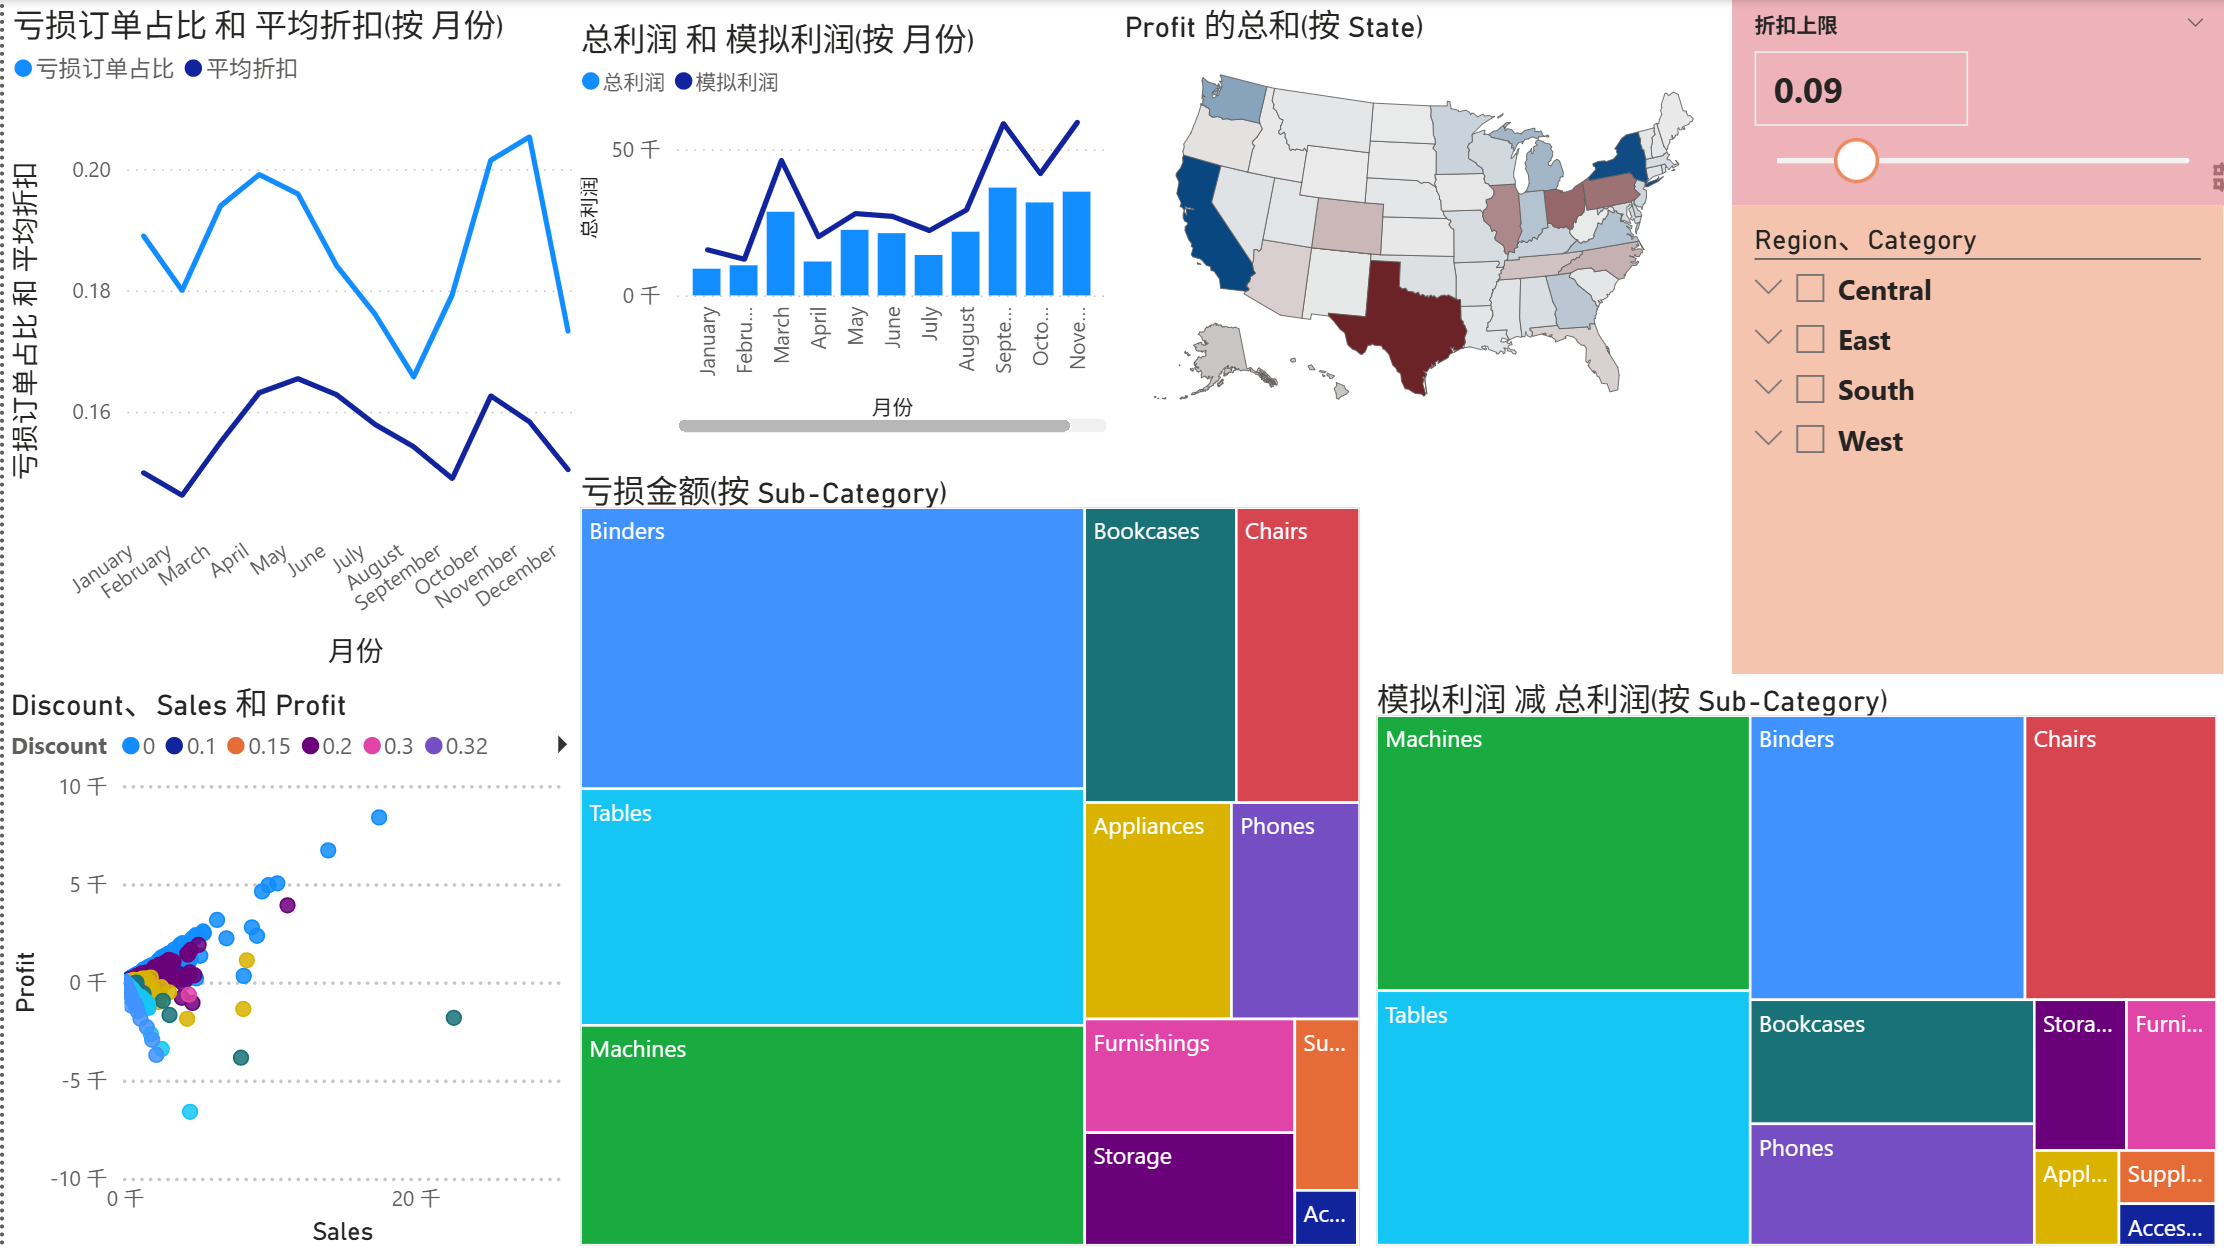

The page's visual inventory and layout, read from the dashboard file:
{"tool":"powerbi","page":{"name":"第 1 页","canvas":[1280,720],"ordinal":0},"visuals":[{"type":"lineChart","fields":{"Y":["Sample - Superstore.亏损订单占比","Sample - Superstore.平均折扣"],"Category":["Sample - Superstore.Order Date.变体.日期层次结构.月份"]},"box":[0,0,338.8,388.3],"z":0},{"type":"scatterChart","fields":{"X":["Sample - Superstore.Sales"],"Y":["Sample - Superstore.Profit"],"Series":["Sample - Superstore.Discount"]},"box":[0,388.3,338.8,334],"z":1000},{"type":"treemap","fields":{"Values":["Sample - Superstore.亏损金额"],"Group":["Sample - Superstore.Sub-Category"]},"box":[327.6,331.5,459,392.7],"z":2000},{"type":"shapeMap","fields":{"Category":["Sample - Superstore.State"],"Value":["Sum(Sample - Superstore.Profit)"]},"box":[641.3,0,354.4,331.5],"z":3000},{"type":"slicer","fields":{"Values":["Sample - Superstore.Region","Sample - Superstore.Category"]},"box":[995.6,118.3,282.8,270.1],"z":4000},{"type":"lineStackedColumnComboChart","fields":{"Y":["Sample - Superstore.总利润"],"Y2":["Sample - Superstore.模拟利润"],"Category":["Sample - Superstore.Order Date.变体.日期层次结构.月份"]},"box":[327.6,7.6,313.6,323.8],"z":5000},{"type":"slicer","fields":{"Values":["折扣上限.折扣上限"]},"box":[995.6,0,284.4,118.3],"z":6000},{"type":"treemap","fields":{"Group":["Sample - Superstore.Sub-Category"],"Values":["Sample - Superstore.模拟利润 减 总利润"]},"box":[786.2,388.3,493.8,334],"z":7000}]}

Visuals, with their boxes in screenshot pixels (x1, y1, x2, y2), scaled from the page's 1280x720 canvas onto the 2224x1248 screenshot:
lineChart - Sample - Superstore.亏损订单占比 x Sample - Superstore.平均折扣: detection(0, 0, 589, 673)
scatterChart - Sample - Superstore.Sales x Sample - Superstore.Profit: detection(0, 673, 589, 1247)
treemap - Sample - Superstore.亏损金额 x Sample - Superstore.Sub-Category: detection(569, 575, 1367, 1247)
shapeMap - Sample - Superstore.State x Sum(Sample - Superstore.Profit): detection(1114, 0, 1730, 575)
slicer - Sample - Superstore.Region x Sample - Superstore.Category: detection(1730, 205, 2221, 673)
lineStackedColumnComboChart - Sample - Superstore.总利润 x Sample - Superstore.模拟利润: detection(569, 13, 1114, 574)
slicer - 折扣上限.折扣上限: detection(1730, 0, 2223, 205)
treemap - Sample - Superstore.Sub-Category x Sample - Superstore.模拟利润 减 总利润: detection(1366, 673, 2223, 1247)
